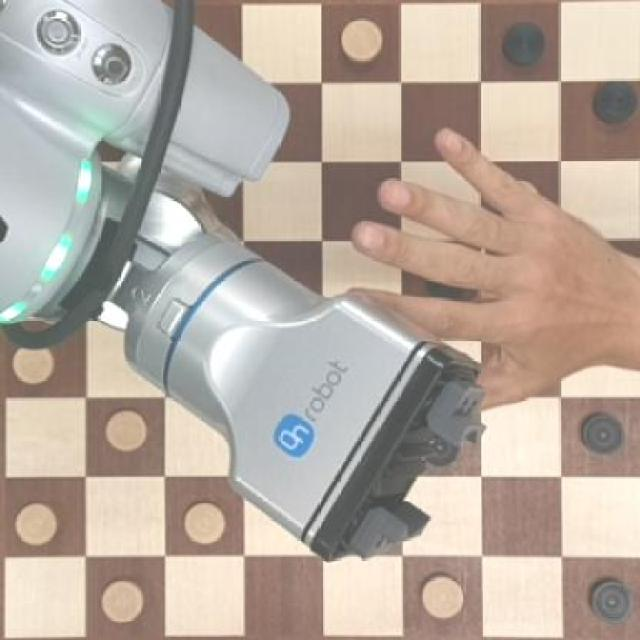black: (497, 11, 555, 72), (578, 571, 637, 630), (578, 405, 626, 464), (586, 74, 636, 125)
white: (96, 568, 152, 631), (98, 402, 154, 460), (416, 571, 471, 627), (178, 495, 232, 550), (334, 12, 387, 67), (9, 501, 63, 554), (6, 344, 64, 390)
